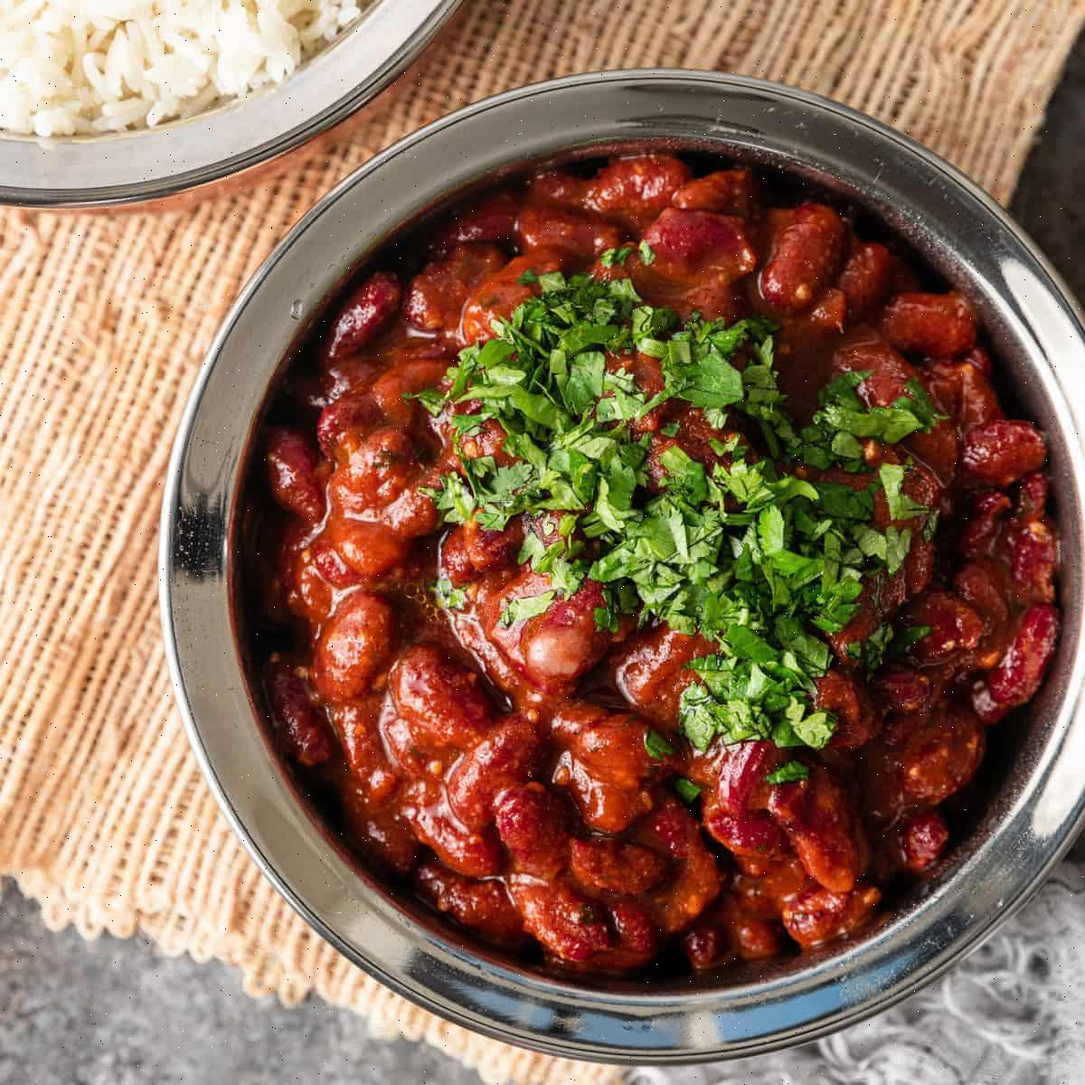rajma: (259, 169, 1019, 1010)
